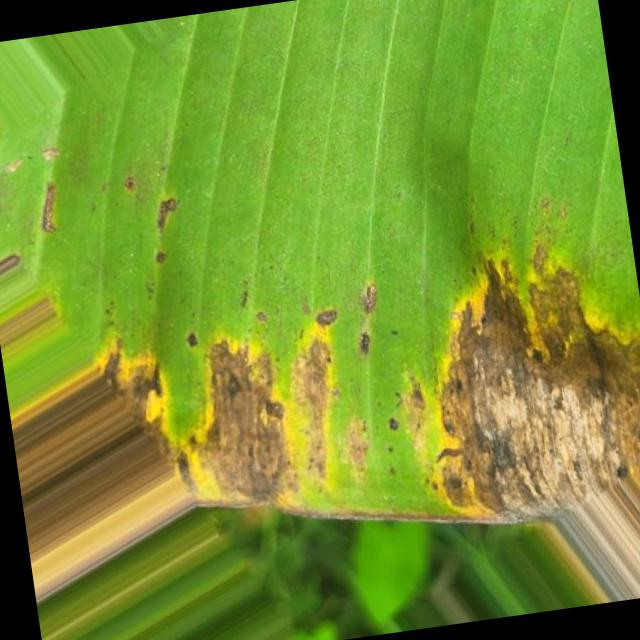Banana_Black_Sigatoka: (88, 230, 390, 575), (403, 228, 640, 544)
